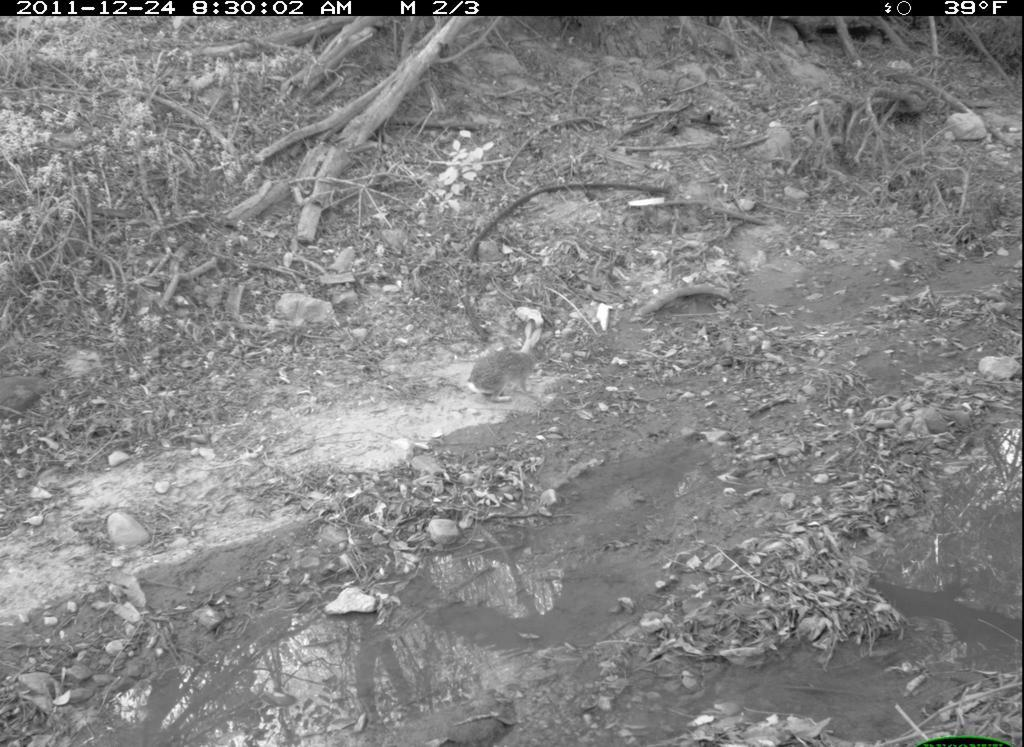rabbit: (425, 319, 555, 401)
